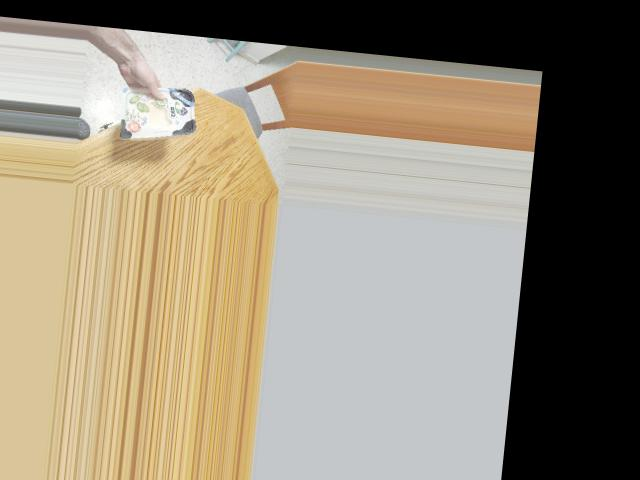cheese: (117, 74, 199, 145)
